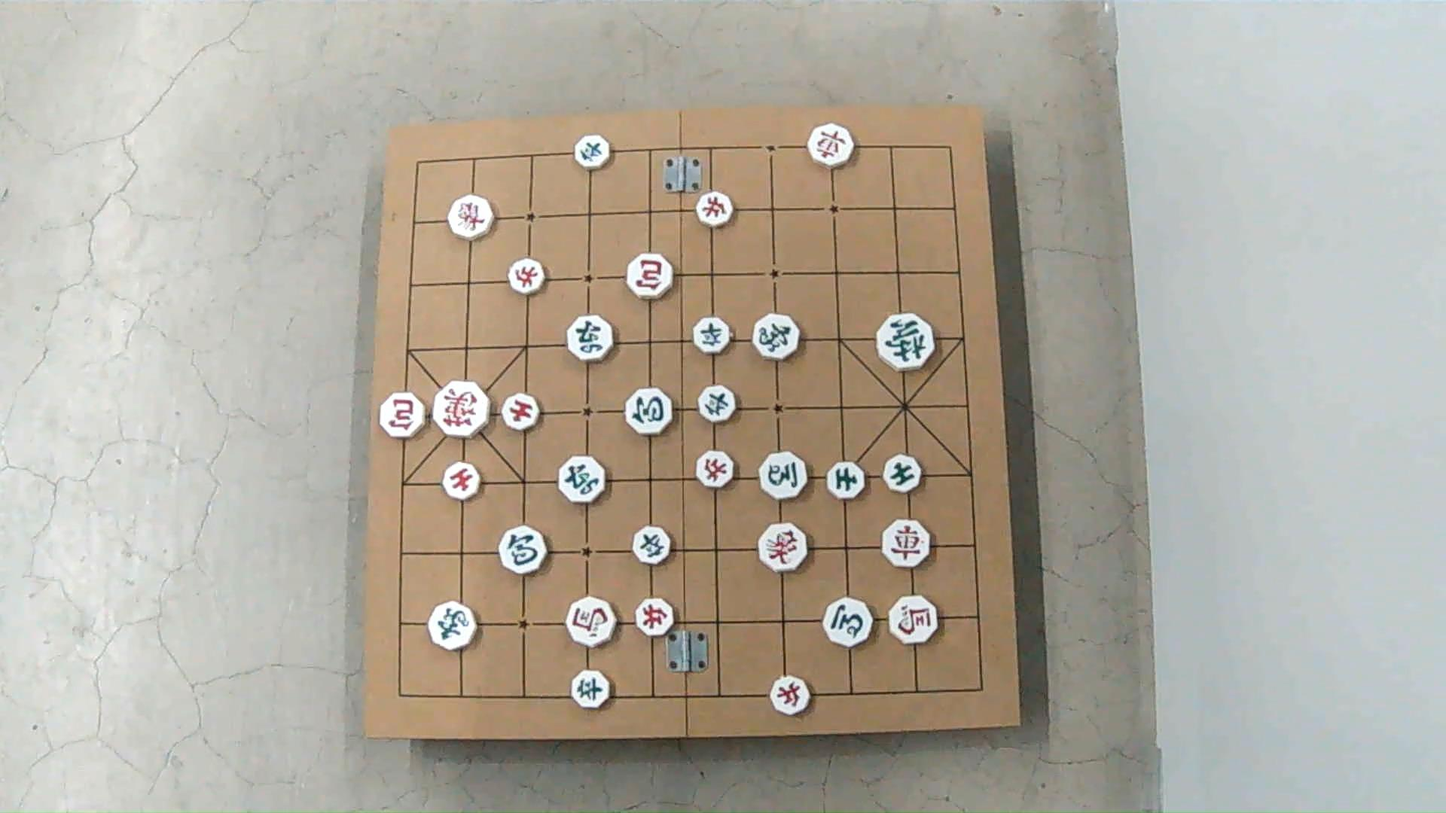cha_green: (557, 455, 605, 502), (568, 315, 613, 360)
cha_red: (881, 519, 929, 568), (807, 123, 854, 168)
jol_green: (573, 671, 613, 709), (692, 317, 730, 354), (698, 387, 737, 423), (633, 526, 670, 563), (577, 134, 613, 169)
jol_red: (771, 677, 811, 716), (697, 450, 735, 488), (636, 600, 674, 638), (506, 259, 544, 295), (697, 192, 734, 228)
ma_green: (824, 597, 873, 645), (759, 452, 807, 499)
ma_red: (566, 598, 615, 648), (890, 596, 938, 644)
po_green: (624, 388, 673, 436), (499, 526, 547, 574)
po_red: (626, 254, 673, 299), (380, 393, 426, 438)
sa_green: (881, 453, 920, 491), (826, 462, 866, 499)
sa_red: (444, 463, 481, 501), (504, 394, 542, 431)
sang_green: (427, 602, 474, 650), (754, 314, 801, 360)
sang_red: (760, 524, 809, 572), (451, 196, 496, 241)
wang_green: (876, 313, 932, 370)
wang_red: (431, 380, 488, 438)
